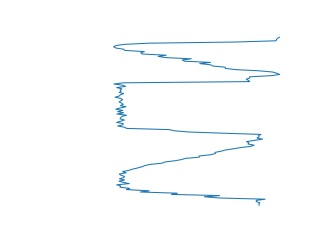distributaryChannelFill: (110, 71, 266, 142)
mouthBar: (108, 34, 284, 76)
underwaterDistributaryChannel: (111, 134, 267, 209)
